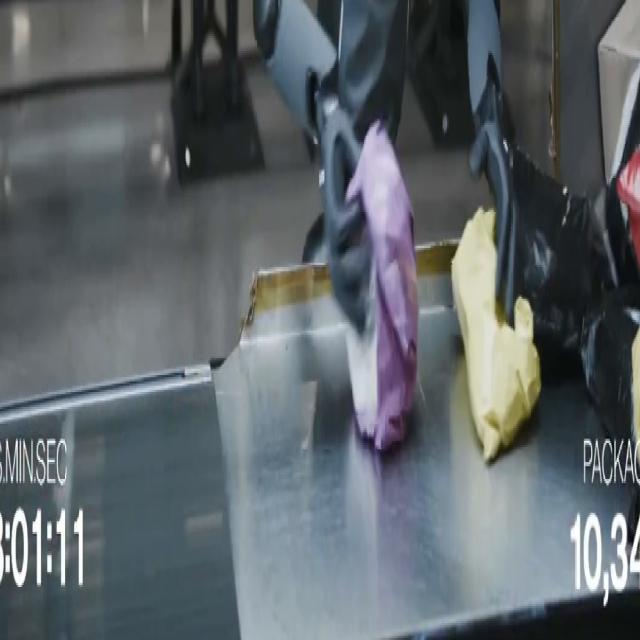package: (346, 123, 418, 451), (452, 210, 541, 461), (513, 149, 616, 362), (581, 287, 639, 478), (581, 287, 639, 445), (598, 0, 639, 184), (605, 68, 639, 286)
